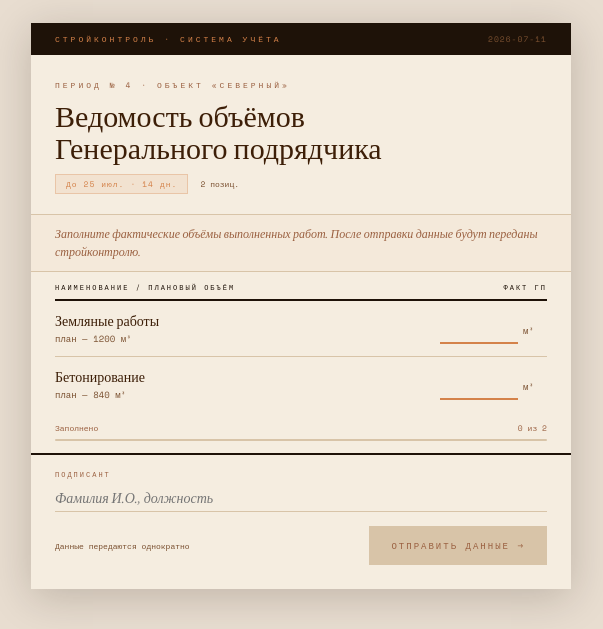
Test: GpFormPage › подсвечивает пустые строки после попытки submit
The image size is (603, 629).
// Заполнить только первое поле
In the number field with test id "gp-volume-input" in the row of "Земляные работы": (479, 328) [440, 314, 518, 344], type "1150"
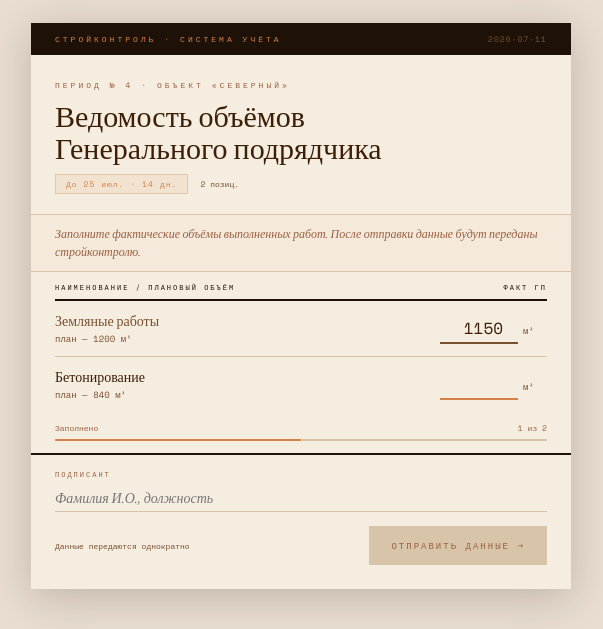
In the field with test id "gp-name-input": (301, 498) [55, 485, 547, 512], type "Иванов"
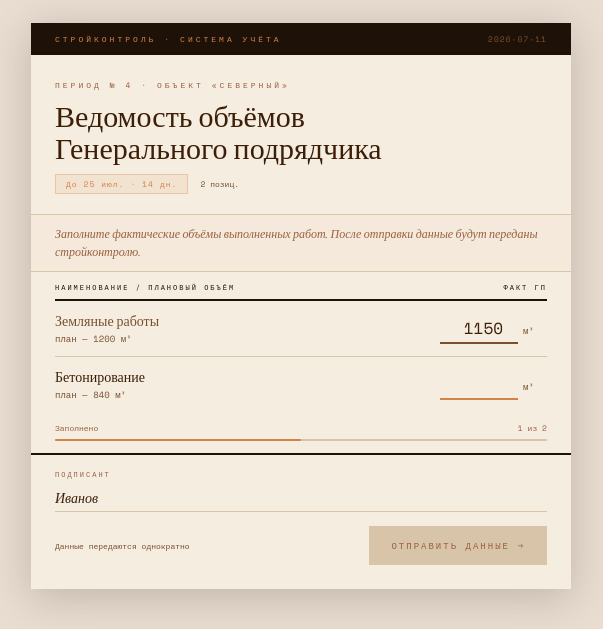
// Триггер touched без submit (кнопка disabled — имитируем через форму)
Submit the form with test id "gp-form", box [31, 272, 571, 589]
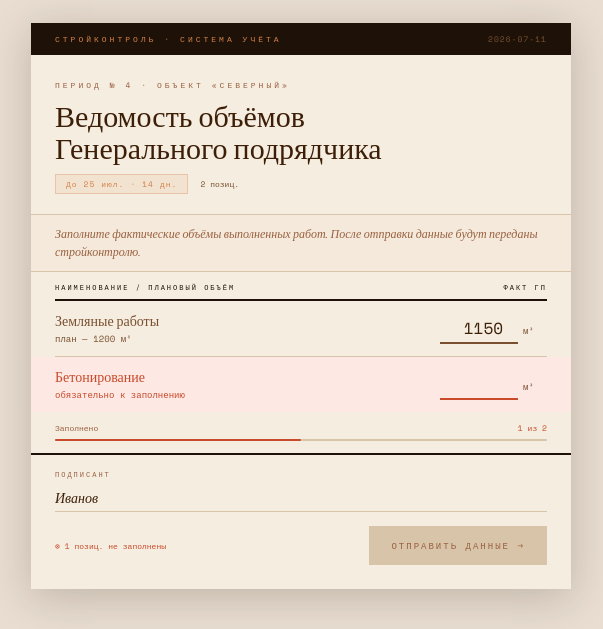
Now the element with test id "gp-row-error-2" is shown, box [31, 357, 571, 412]
